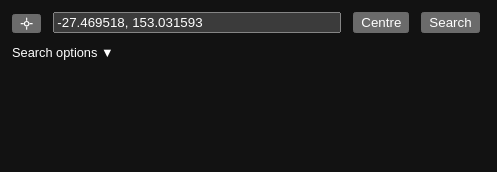
Test: SearchForm › shows an error when geolocation is not supported
Click the button named "Use my location" at (27, 23), box [12, 14, 41, 33]
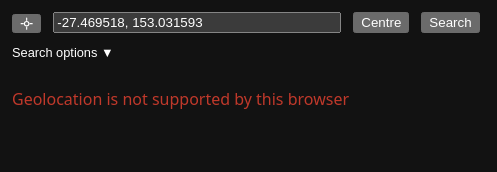
Now the text "Geolocation is not supported by this browser" is shown, box [12, 88, 349, 110]
